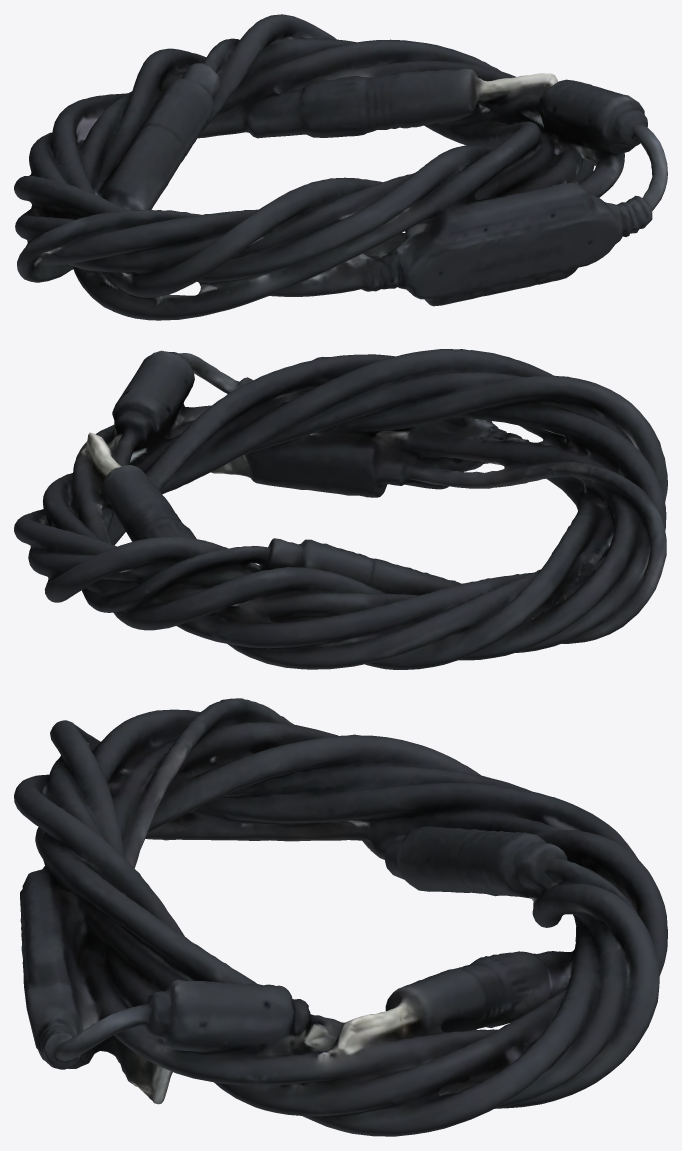
Rendered from Ubisoft_RockSmith_Real_Tone_Cable_Xbox_360.glb.
The picture shows the model from 3 angles, top to bottom: view 1: azimuth 30°, elevation 25°; view 2: azimuth 150°, elevation 25°; view 3: azimuth 270°, elevation 25°; orthographic projection. The views are drawn at different scales.
Visible parts, largest first — view 1: Ubisoft_RockSmith_Real_Tone_Cable_Xbox_360; view 2: Ubisoft_RockSmith_Real_Tone_Cable_Xbox_360; view 3: Ubisoft_RockSmith_Real_Tone_Cable_Xbox_360.
Part boxes in pixels (x1=…): Ubisoft_RockSmith_Real_Tone_Cable_Xbox_360: x1=14, y1=14, x2=667, y2=320; Ubisoft_RockSmith_Real_Tone_Cable_Xbox_360: x1=14, y1=349, x2=667, y2=669; Ubisoft_RockSmith_Real_Tone_Cable_Xbox_360: x1=14, y1=698, x2=667, y2=1136.
Bounding box in the file's own units: 0.1716 × 0.0436 × 0.14.
1 material, 1 textured.
